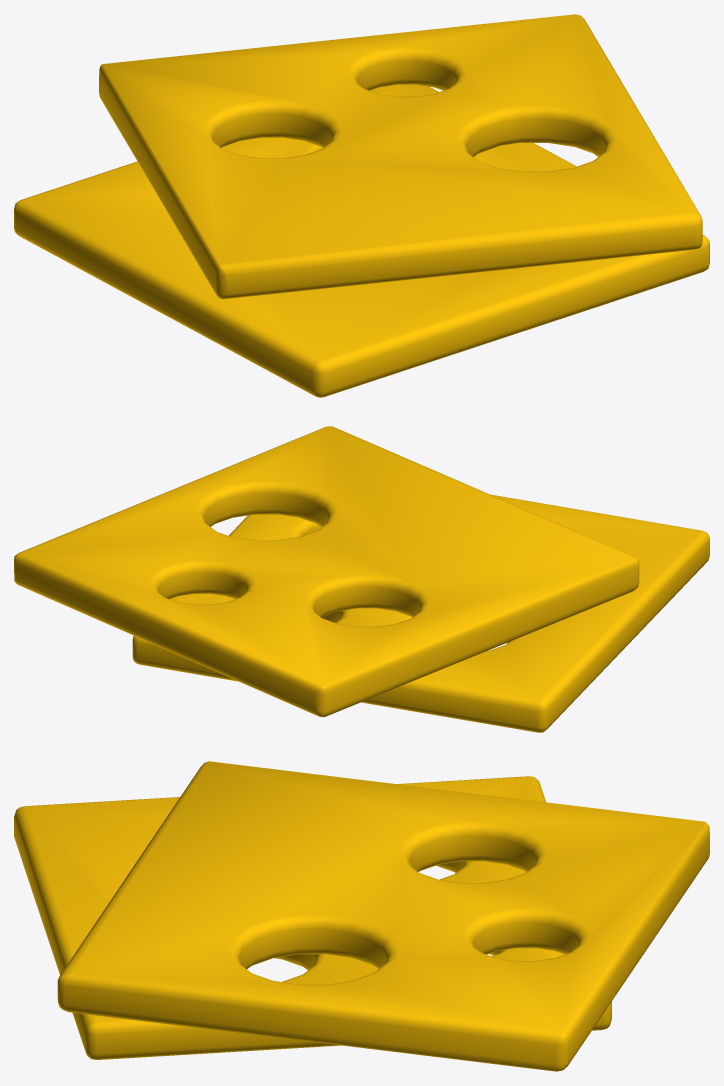
The model's file is cheese-cut.glb.
3 renders of one model, top to bottom at view 1: azimuth 30°, elevation 25°; view 2: azimuth 150°, elevation 25°; view 3: azimuth 270°, elevation 25°, orthographic. The views are drawn at different scales.
Visible parts, largest first — view 1: SwissSlice_0; view 2: SwissSlice_0; view 3: SwissSlice_0.
Part boxes in pixels (left/top/right/bottom): SwissSlice_0: left=14, top=14, right=709, bottom=397; SwissSlice_0: left=14, top=426, right=709, bottom=732; SwissSlice_0: left=14, top=761, right=709, bottom=1071.
Bounding box in the file's own units: 0.4025 × 0.048 × 0.3925.
